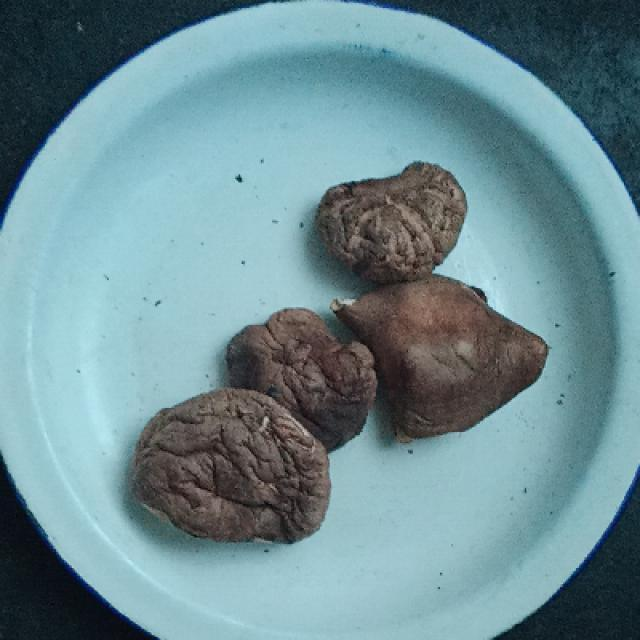Lentinus edodes: (333, 282, 552, 441), (134, 391, 334, 542), (226, 309, 373, 452), (316, 163, 468, 280)
